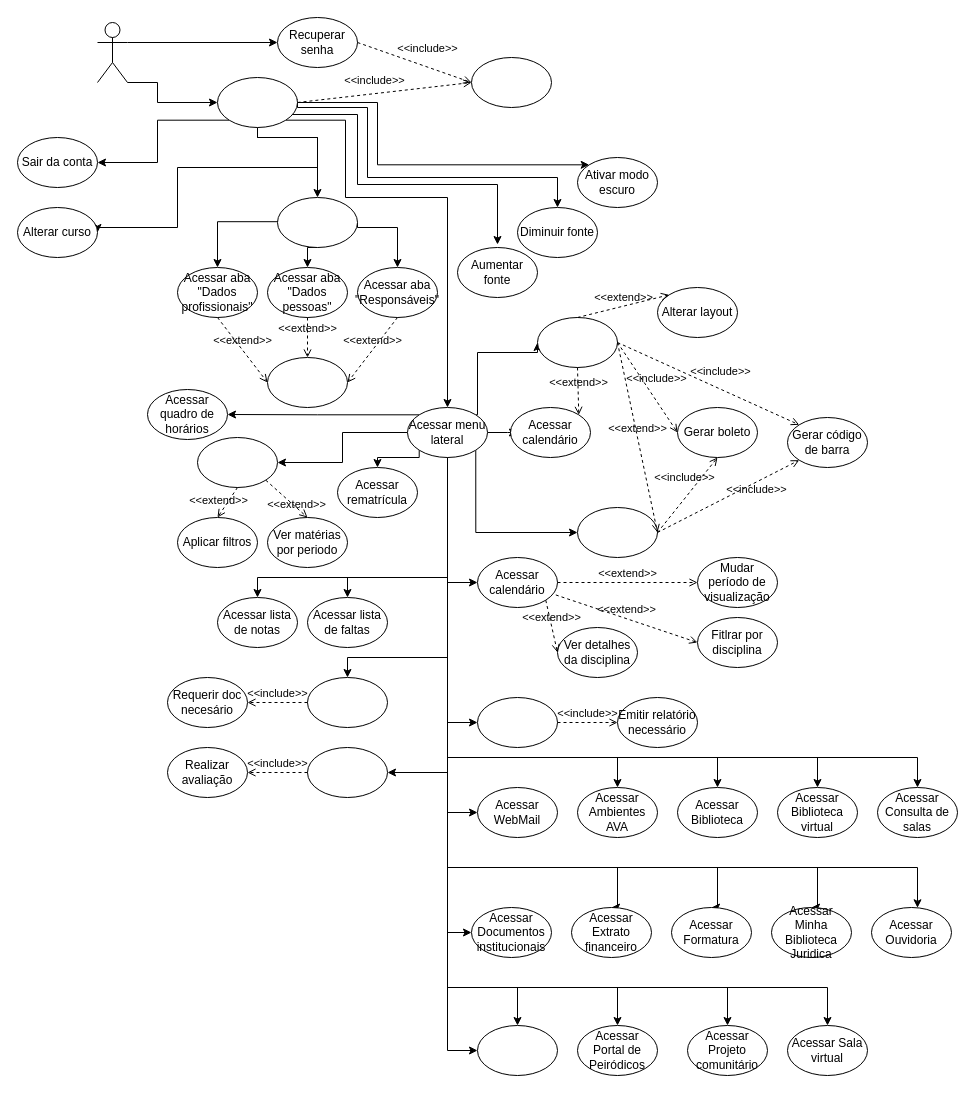
Some shapes in this 975 by 1093 pixel diagram are drawn without their labels. The shapes that lost their labels are listed below. From the top down, each one's centre as x and y in pixels, then its label:
point (112, 52): Aluno
point (257, 102): Fazer Login
point (511, 82): Alterar senha
point (317, 222): Acessar "Cadastro Acadêmico"
point (577, 342): Acessar mural
point (307, 382): Editar informações
point (237, 462): Acessar Grade curricular
point (617, 532): Acessar financeiro
point (347, 702): Acessar Central de soluções
point (517, 722): Acessar Relatório
point (347, 772): Acessar Avaliação Institucional
point (517, 1050): Acessar PE
